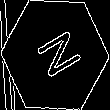N_SW: (27, 26, 83, 84)
